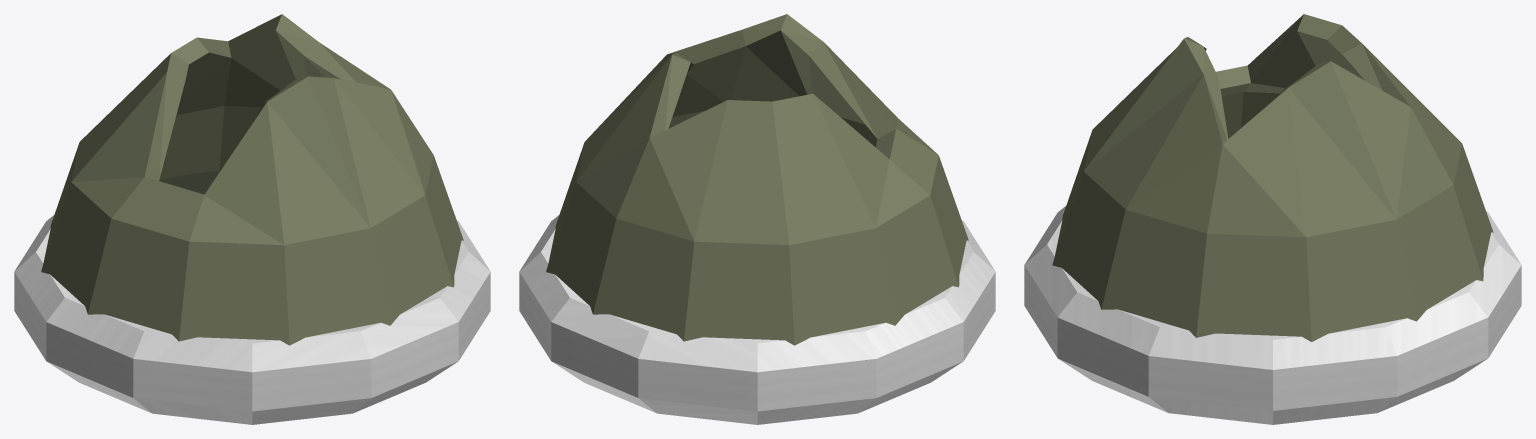
The model's file is broken_beacon_c.obj.
The picture shows the model from 3 angles, left to right: view 1: azimuth 30°, elevation 25°; view 2: azimuth 150°, elevation 25°; view 3: azimuth 270°, elevation 25°; orthographic projection. The views are drawn at different scales.
Parts seen in each view (by area): view 1: broken_beacon_c; view 2: broken_beacon_c; view 3: broken_beacon_c.
Part boxes in pixels (bbox=[...]): broken_beacon_c: bbox=[14, 14, 490, 424]; broken_beacon_c: bbox=[519, 14, 995, 424]; broken_beacon_c: bbox=[1024, 14, 1521, 424].
Bounding box in the file's own units: 0.88 × 0.595 × 0.88.
